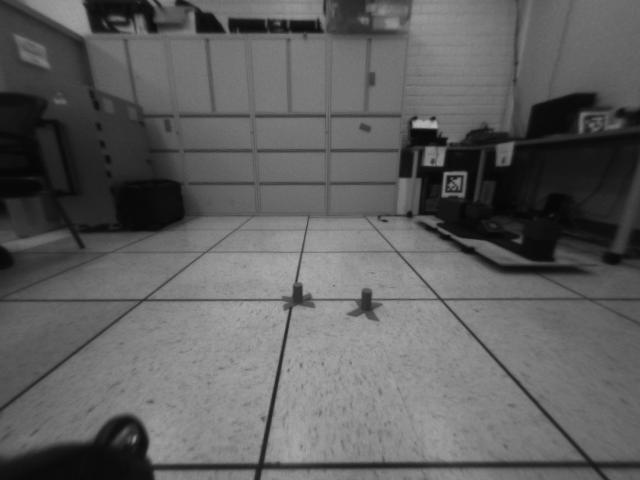X: (346, 286, 383, 322), (280, 280, 317, 312)
